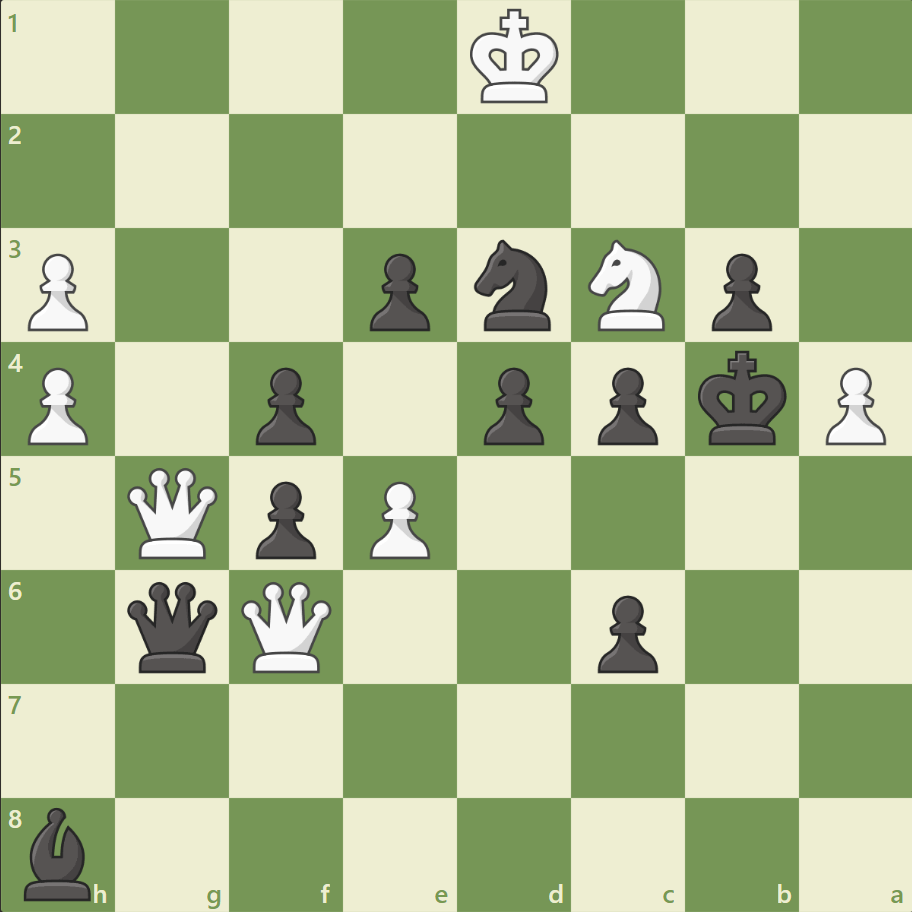K: (465, 4, 565, 112)
N: (579, 234, 676, 337)
P: (20, 359, 95, 450), (20, 246, 95, 337), (361, 473, 435, 564), (815, 359, 889, 450)
Q: (237, 576, 336, 676), (124, 463, 223, 562)
b: (17, 801, 101, 904)
k: (692, 344, 792, 452)
n: (465, 234, 562, 337)
p: (247, 473, 322, 564), (474, 359, 549, 450), (247, 359, 322, 450), (701, 246, 776, 337), (588, 586, 662, 677), (588, 359, 662, 450), (361, 246, 435, 337)
q: (124, 576, 223, 676)
